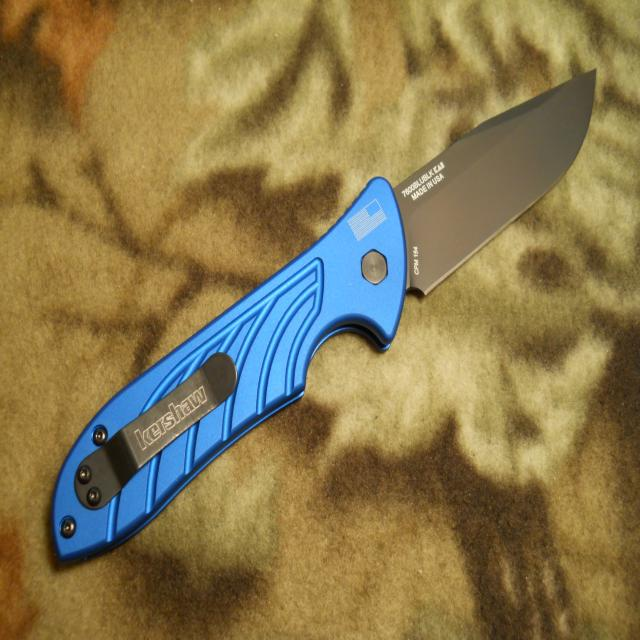knife: (48, 64, 606, 567)
